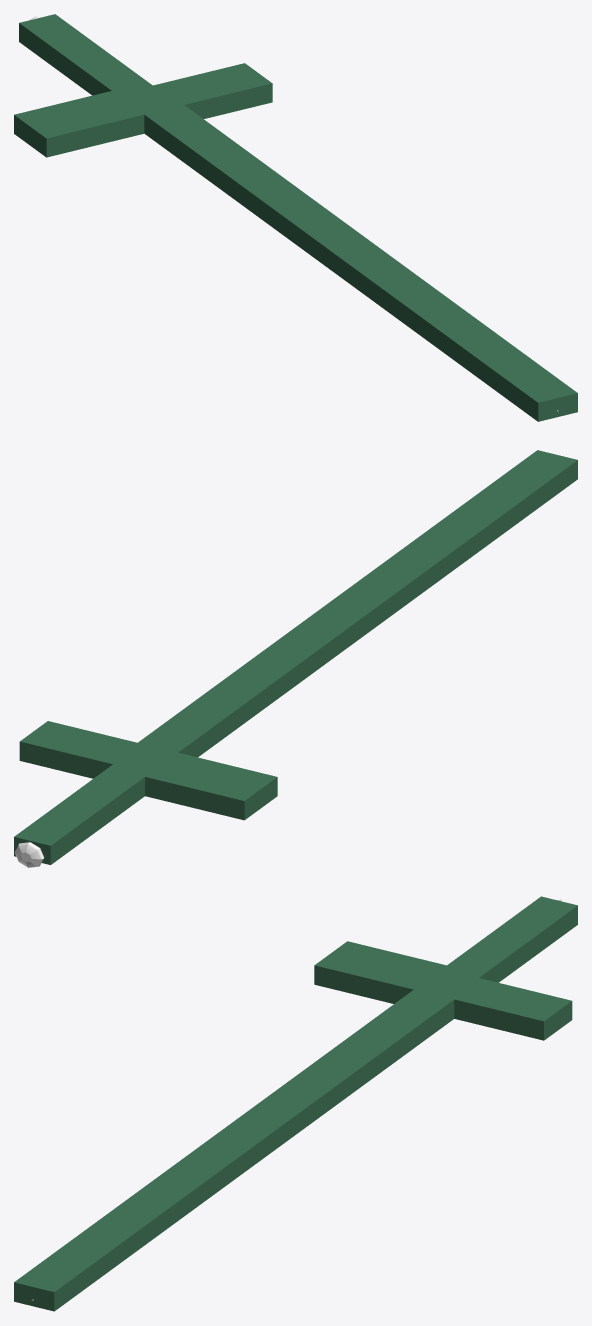
The model's file is Sword with ornate hilt.dae.
The picture shows the model from 3 angles, top to bottom: view 1: azimuth 30°, elevation 25°; view 2: azimuth 150°, elevation 25°; view 3: azimuth 330°, elevation 25°; orthographic projection.
Parts seen in each view (by area): view 1: Mesh1_Proxy1_Model; view 2: Mesh1_Proxy1_Model, Mesh2_Sword_w__hilt1_Model; view 3: Mesh1_Proxy1_Model.
Boxes of the visible parts, <box> form: Mesh1_Proxy1_Model: <box>14,14,577,421</box>; Mesh1_Proxy1_Model: <box>14,450,577,864</box>; Mesh2_Sword_w__hilt1_Model: <box>14,842,44,867</box>; Mesh1_Proxy1_Model: <box>14,896,577,1311</box>.
Size of the model in its own units: 0.3453 by 1.39 by 0.0361.
